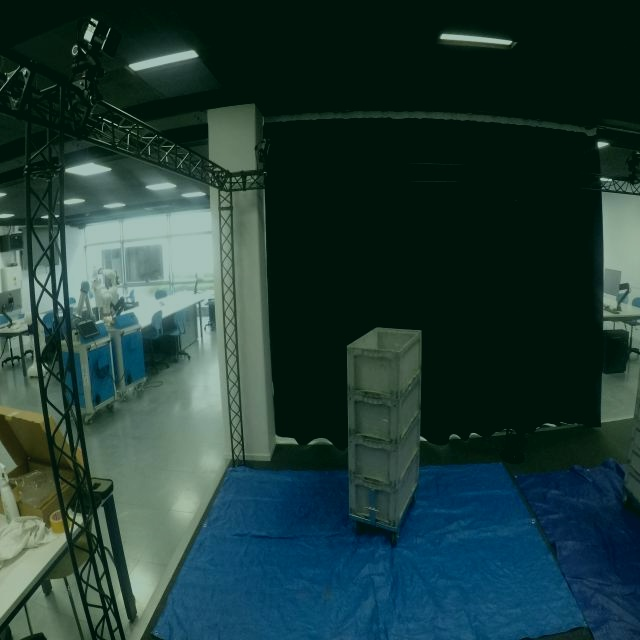Box4G: (345, 410, 424, 491), (346, 446, 421, 530), (345, 369, 424, 447), (346, 325, 423, 400)
